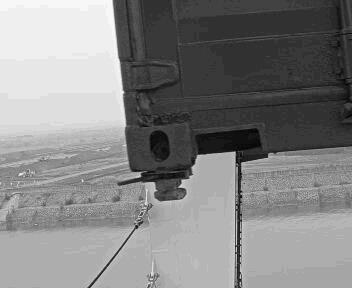twist_lock_1: (138, 161, 204, 204)
